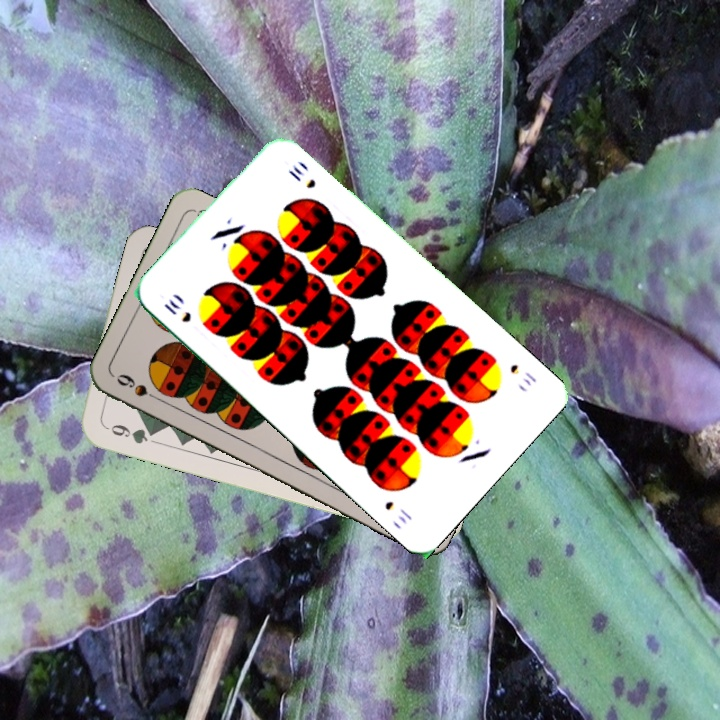G9: (100, 420, 160, 447)
S10: (160, 295, 194, 325), (505, 360, 540, 389)
S9: (112, 369, 166, 405)
